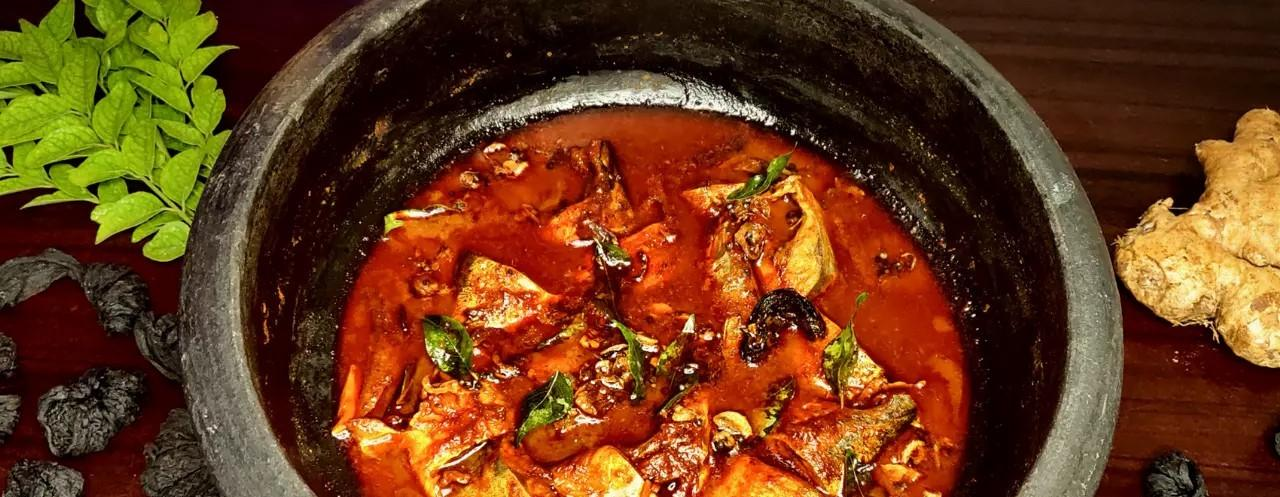FishCurry: (336, 113, 970, 497)
